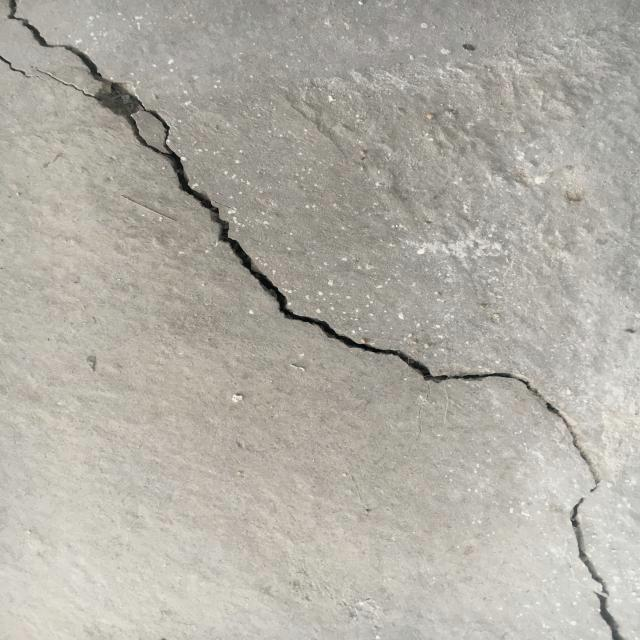SurfaceCrack: (1, 0, 639, 630)
